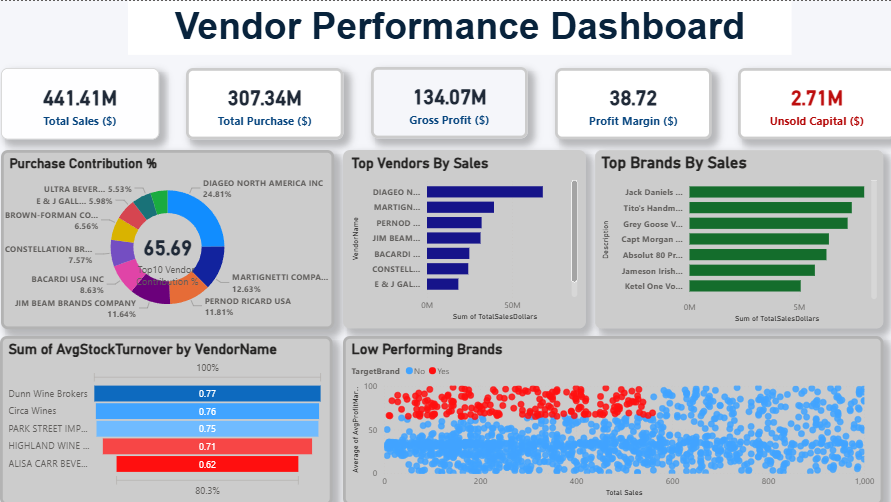

Layout of this report page (visuals, bound fields, positions):
{"tool":"powerbi","page":{"name":"Page 1","canvas":[1280,720],"ordinal":0},"visuals":[{"type":"card","fields":{"Values":["Sum(vendor_sales_summary csv (2).TotalSalesDollars)"]},"box":[1.2,96,225.5,102.1],"z":0},{"type":"card","fields":{"Values":["Sum(vendor_sales_summary csv (2).TotalPurchaseDollars)"]},"box":[265.8,96,225,102],"z":1000},{"type":"card","fields":{"Values":["Sum(vendor_sales_summary csv (2).GrossProfit)"]},"box":[529.7,94.5,224,102.1],"z":2000},{"type":"card","fields":{"Values":["Avg(vendor_sales_summary csv (2).ProfitMargin)"]},"box":[792.7,96,224,102.1],"z":3000},{"type":"card","fields":{"Values":["Sum(vendor_sales_summary csv (2).UnsoldCapital)"]},"box":[1054.5,96,225.5,102.1],"z":4000},{"type":"donutChart","title":"Purchase Contribution %","fields":{"Category":["PurchaseContribution.VendorName"],"Y":["Sum(PurchaseContribution.PurchaseContribution%)"]},"box":[0,213.3,475,255],"z":5000},{"type":"barChart","title":"Top Vendors By Sales","fields":{"Category":["vendor_sales_summary csv (2).VendorName"],"Y":["Sum(vendor_sales_summary csv (2).TotalSalesDollars)"]},"box":[490,213.3,346.7,255],"z":6000},{"type":"barChart","title":"Top Brands By Sales","fields":{"Category":["vendor_sales_summary csv (2).Description"],"Y":["Sum(vendor_sales_summary csv (2).TotalSalesDollars)"]},"box":[850,213.3,411.7,255],"z":7000},{"type":"funnel","fields":{"Category":["LowTurnoverVendor.VendorName"],"Y":["Sum(LowTurnoverVendor.AvgStockTurnover)"]},"box":[0,478,475,242],"z":8000},{"type":"scatterChart","title":"Low Performing Brands","fields":{"Category":["BrandPerformance.Description"],"X":["Sum(BrandPerformance.TotalSales)"],"Y":["Avg(BrandPerformance.AvgProfitMargin)"],"Series":["BrandPerformance.TargetBrand"]},"box":[490,478.3,771.7,241.7],"z":9000},{"type":"textbox","box":[183.3,0,948.3,76.7],"z":10000}]}

Visuals, with their boxes in screenshot pixels (x1, y1, x2, y2), scaled from the page's 1280x720 canvas onto the 891x502 screenshot:
card - Sum(vendor_sales_summary csv (2).TotalSalesDollars): bbox(1, 67, 158, 138)
card - Sum(vendor_sales_summary csv (2).TotalPurchaseDollars): bbox(185, 67, 342, 138)
card - Sum(vendor_sales_summary csv (2).GrossProfit): bbox(369, 66, 525, 137)
card - Avg(vendor_sales_summary csv (2).ProfitMargin): bbox(552, 67, 708, 138)
card - Sum(vendor_sales_summary csv (2).UnsoldCapital): bbox(734, 67, 890, 138)
"Purchase Contribution %" donutChart: bbox(0, 149, 331, 327)
"Top Vendors By Sales" barChart: bbox(341, 149, 582, 327)
"Top Brands By Sales" barChart: bbox(592, 149, 878, 327)
funnel - LowTurnoverVendor.VendorName x Sum(LowTurnoverVendor.AvgStockTurnover): bbox(0, 333, 331, 501)
"Low Performing Brands" scatterChart: bbox(341, 333, 878, 501)
textbox: bbox(128, 0, 788, 53)
